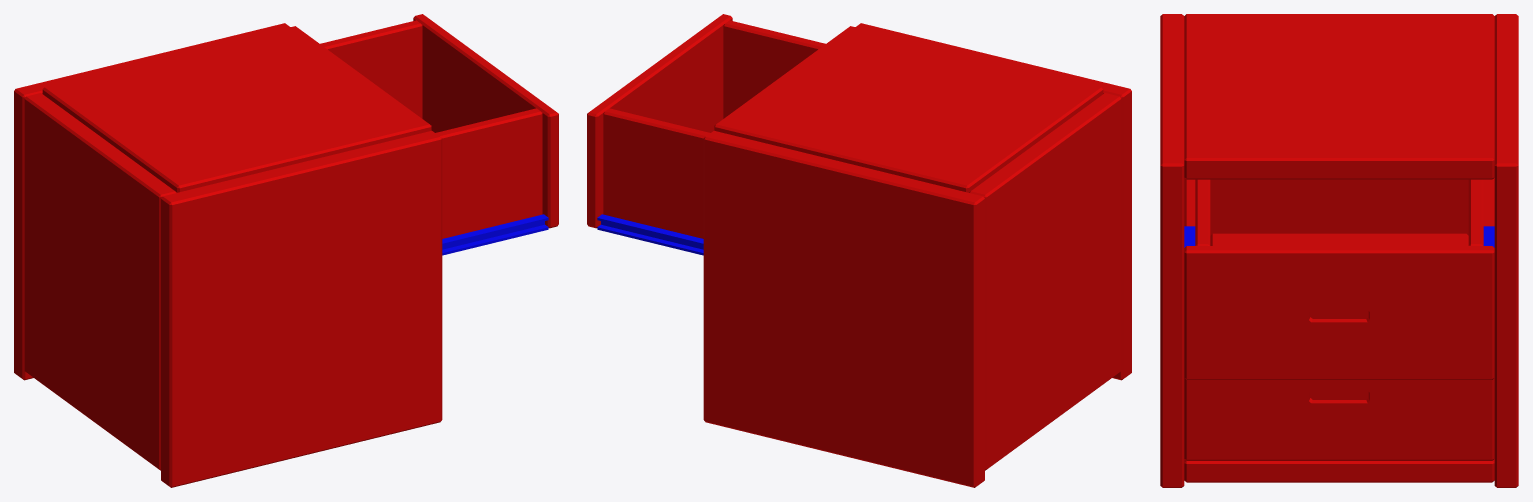
Rendered from smalldresseropen.fbx.
3 views of the same model, side by side, from view 1: azimuth 30°, elevation 25°; view 2: azimuth 150°, elevation 25°; view 3: azimuth 270°, elevation 25° (orthographic). The views are drawn at different scales.
Parts seen in each view (by area): view 1: m2; view 2: m2; view 3: m2.
Boxes of the visible parts, <box> form: m2: <box>14,14,558,487</box>; m2: <box>587,14,1131,487</box>; m2: <box>1160,14,1518,487</box>.
Size of the model in its own units: 2.2 by 1.53 by 1.5.
